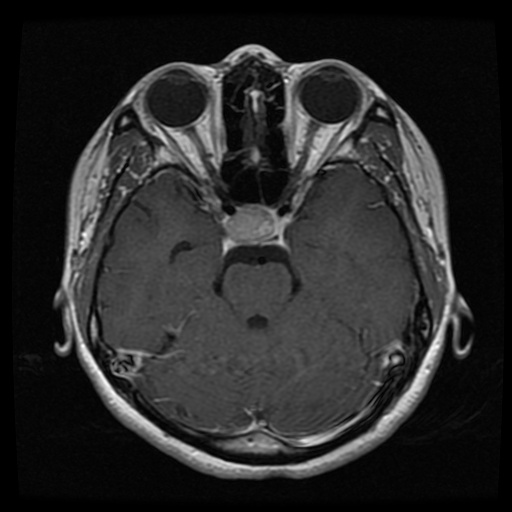pituitary: (226, 203, 280, 243)
